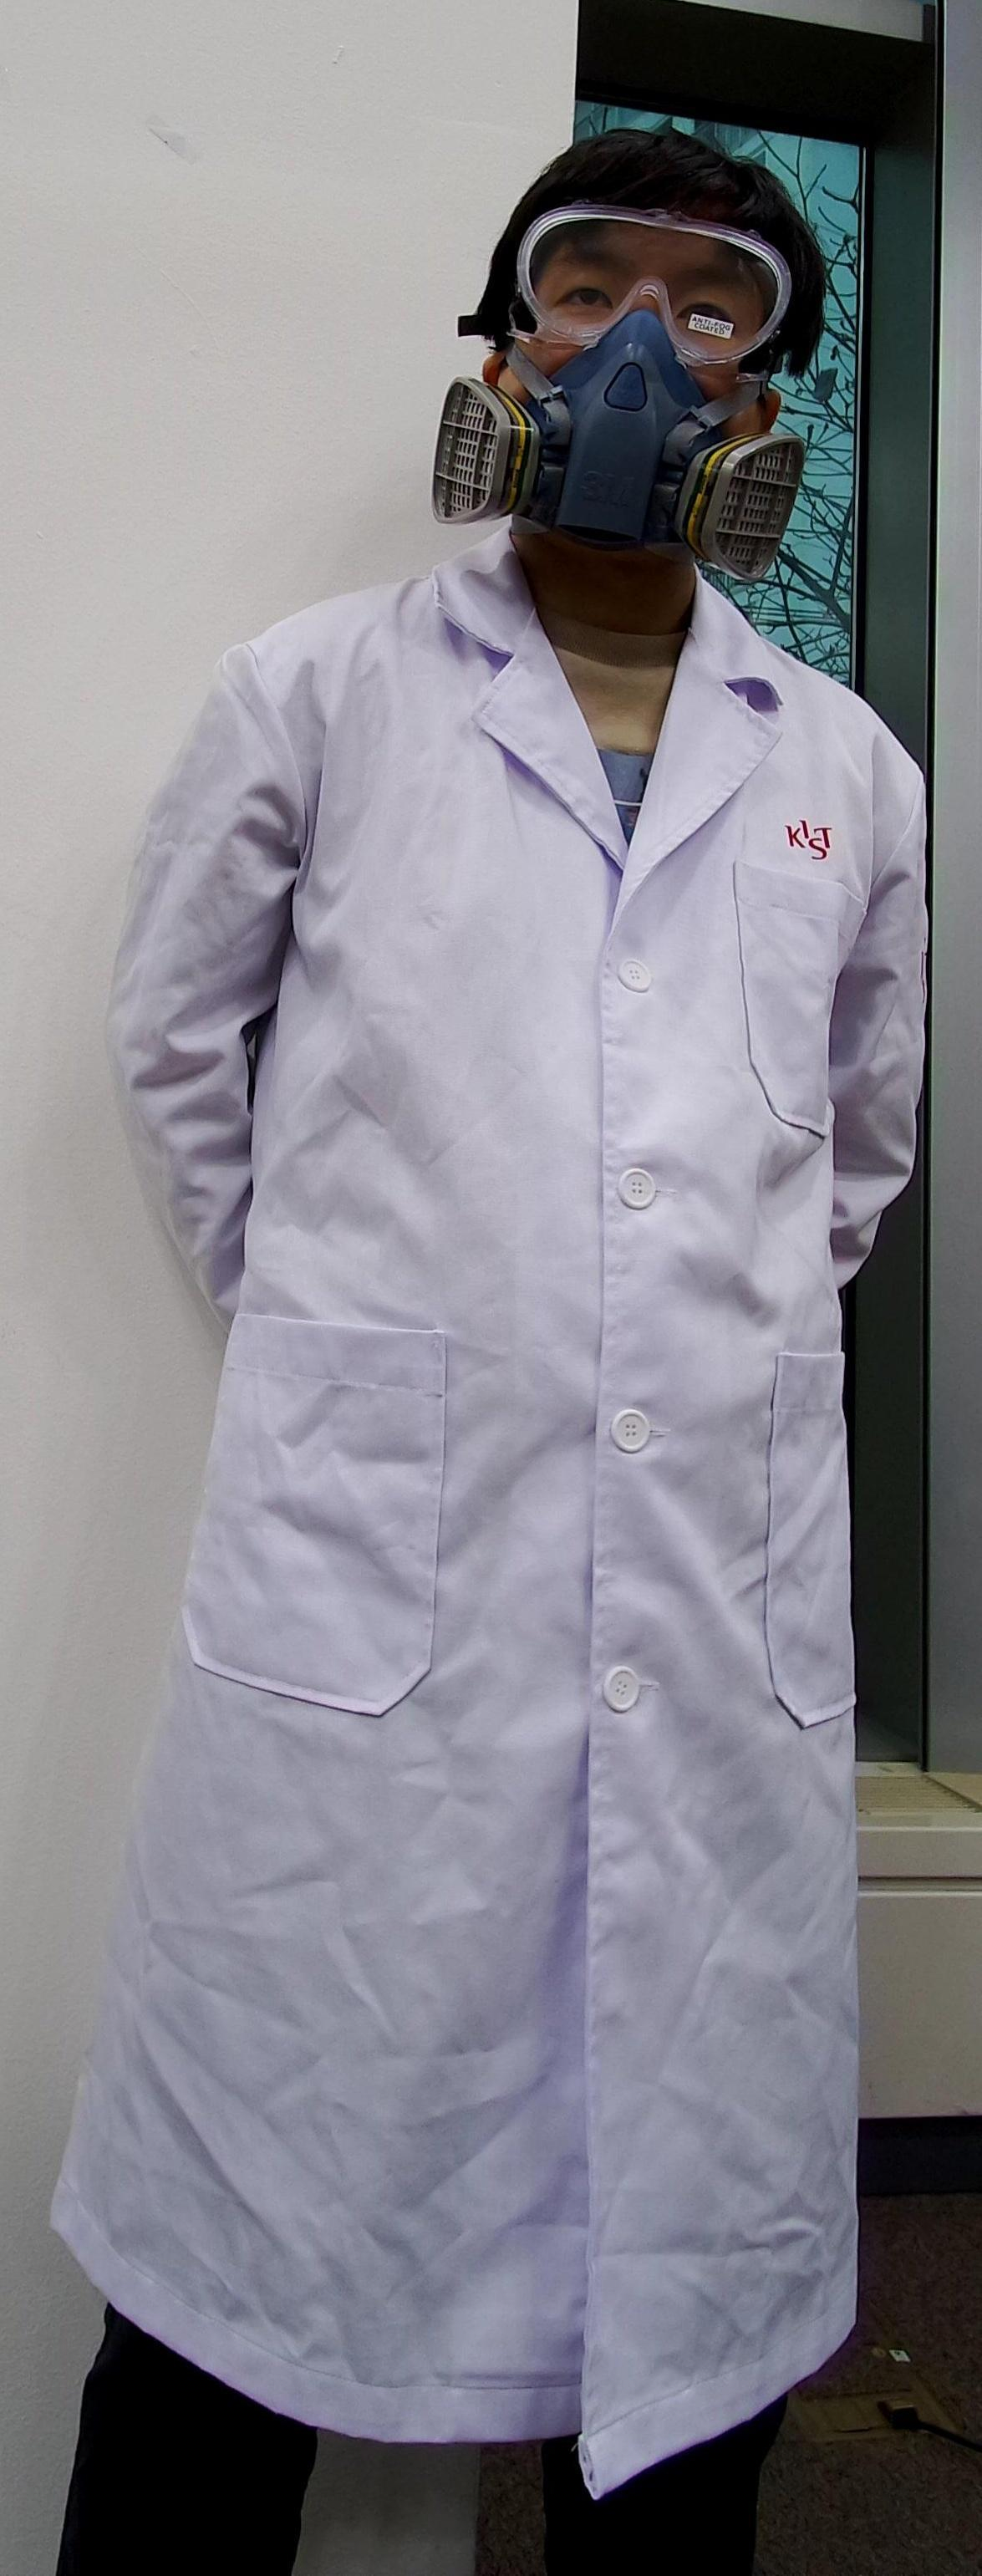lab_coat: (118, 606, 931, 2415)
